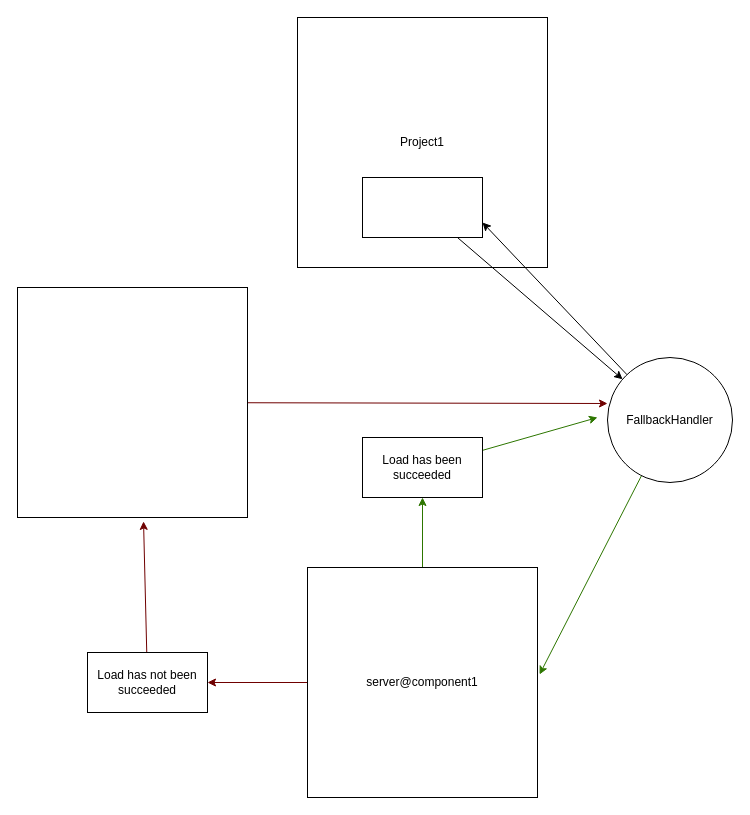
The diagram is 750 pixels wide and 815 high, and some of its shapes have lost their labels. Here are the shapes that lost their labels. From the top down, the box of each, then its label:
(362, 176, 482, 238): Componente1
(16, 286, 248, 518): npm@component1
